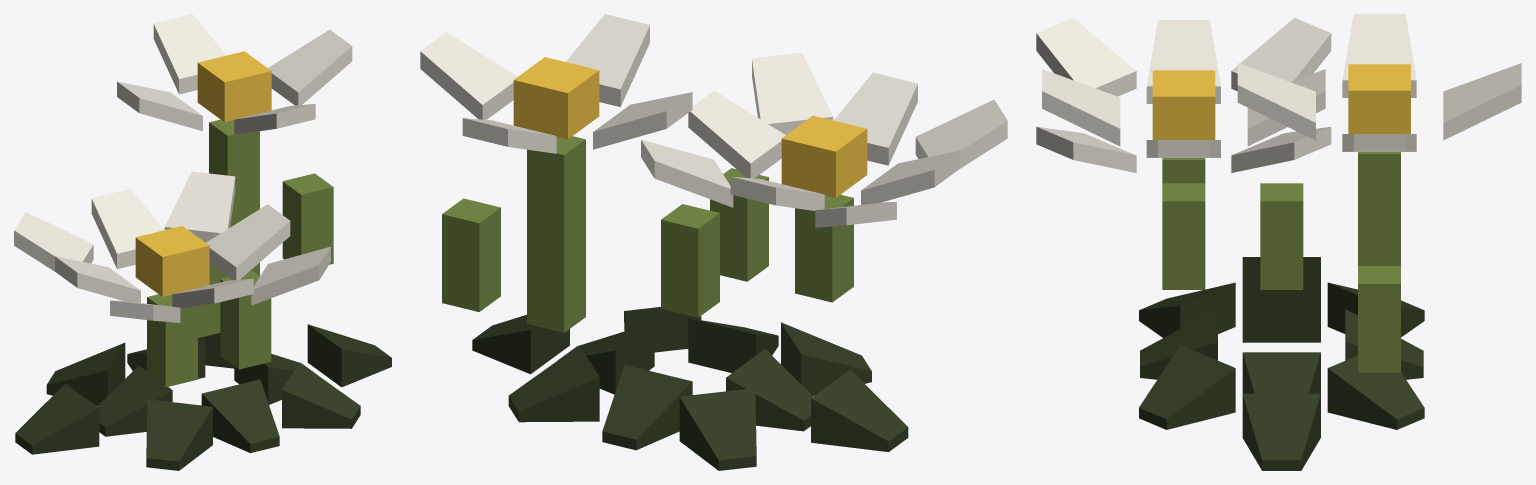
The model's file is flower_white_cluster.glb.
3 renders of one model, left to right at view 1: azimuth 30°, elevation 25°; view 2: azimuth 150°, elevation 25°; view 3: azimuth 270°, elevation 25°, orthographic. The views are drawn at different scales.
Visible parts, largest first — view 1: flower_white_cluster; view 2: flower_white_cluster; view 3: flower_white_cluster.
Boxes of the visible parts, x1,y1,x2,y2 form: flower_white_cluster: (14,14,391,470); flower_white_cluster: (420,14,1007,470); flower_white_cluster: (1036,14,1521,470).
Bounding box in the file's own units: 0.4956 × 0.38 × 0.4956.
Materials: 1 (1 with a texture image).
